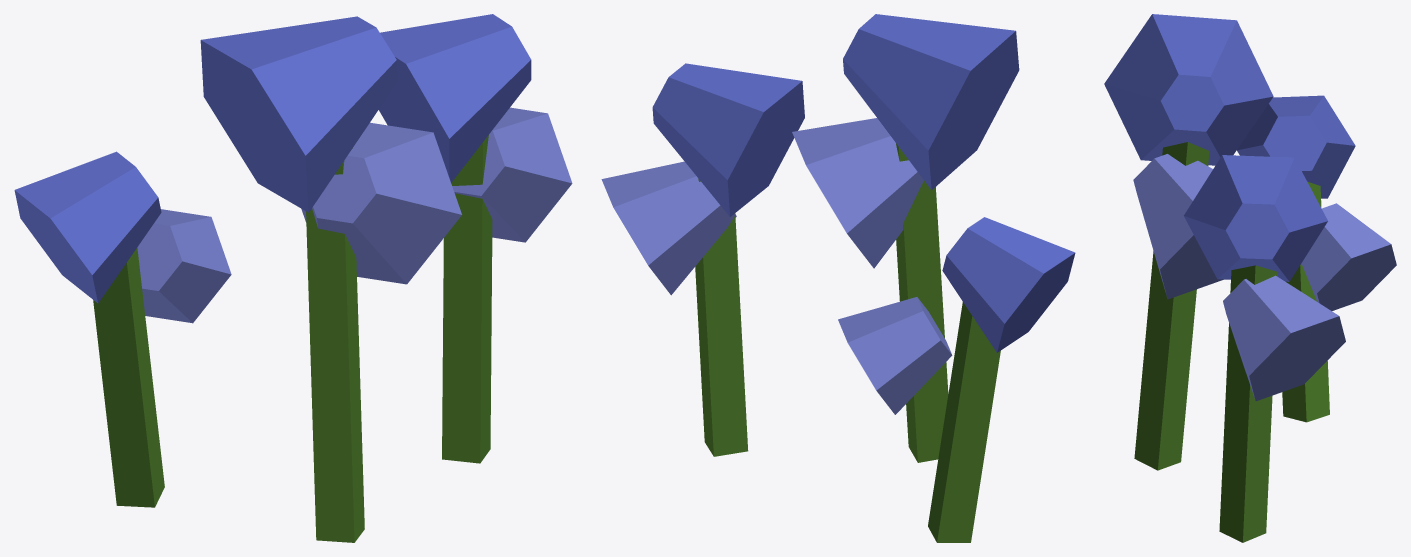
The model's file is p_flower_3.glb.
3 renders of one model, left to right at view 1: azimuth 30°, elevation 25°; view 2: azimuth 150°, elevation 25°; view 3: azimuth 270°, elevation 25°, orthographic. The views are drawn at different scales.
Visible parts, largest first — view 1: body; view 2: body; view 3: body.
Part boxes in pixels (box(x1,y1,x2,y2)): body: box(14, 14, 572, 542); body: box(601, 14, 1075, 542); body: box(1104, 14, 1396, 542).
Bounding box in the file's own units: 0.4652 × 0.4272 × 0.2753.
